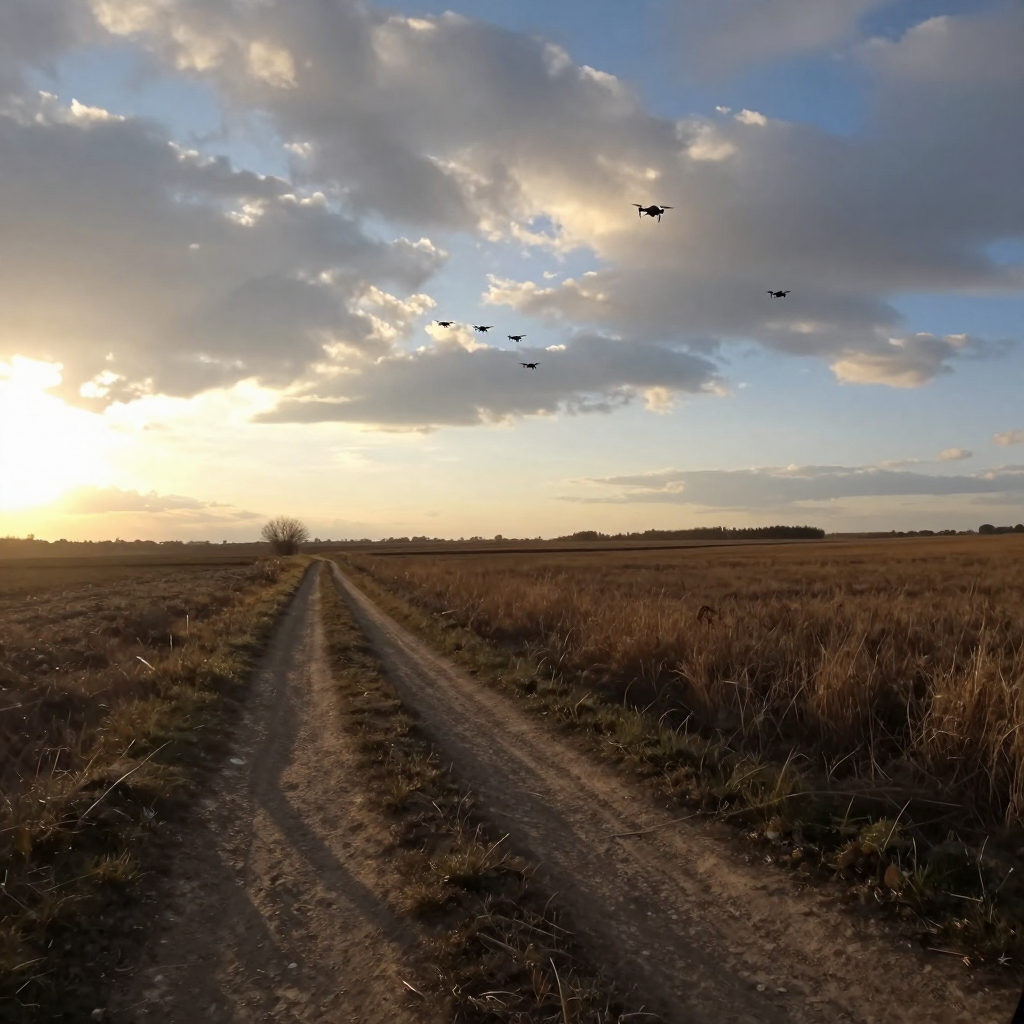drone: (631, 204, 674, 223), (767, 290, 791, 299), (433, 320, 456, 328), (519, 362, 541, 370), (472, 325, 494, 333), (512, 335, 526, 342), (507, 335, 512, 341)
